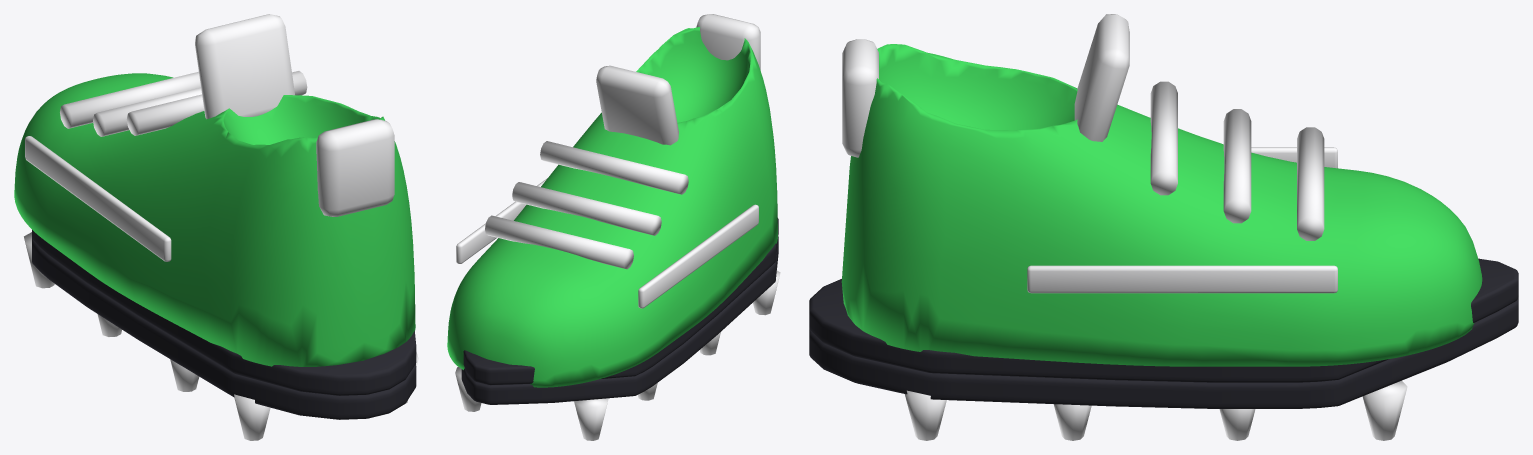
File: shoe_cleats.fbx
3 renders of one model, left to right at view 1: azimuth 30°, elevation 25°; view 2: azimuth 150°, elevation 25°; view 3: azimuth 270°, elevation 25°, orthographic. The views are drawn at different scales.
Visible parts, largest first — view 1: shoe_cleats; view 2: shoe_cleats; view 3: shoe_cleats.
Boxes of the visible parts, box(x1,y1,x2,y2) form: shoe_cleats: box(14, 14, 418, 440); shoe_cleats: box(447, 14, 780, 440); shoe_cleats: box(809, 14, 1518, 440).
Bounding box in the file's own units: 1.58 × 2.21 × 3.88.
Materials: 1 (1 with a texture image).
